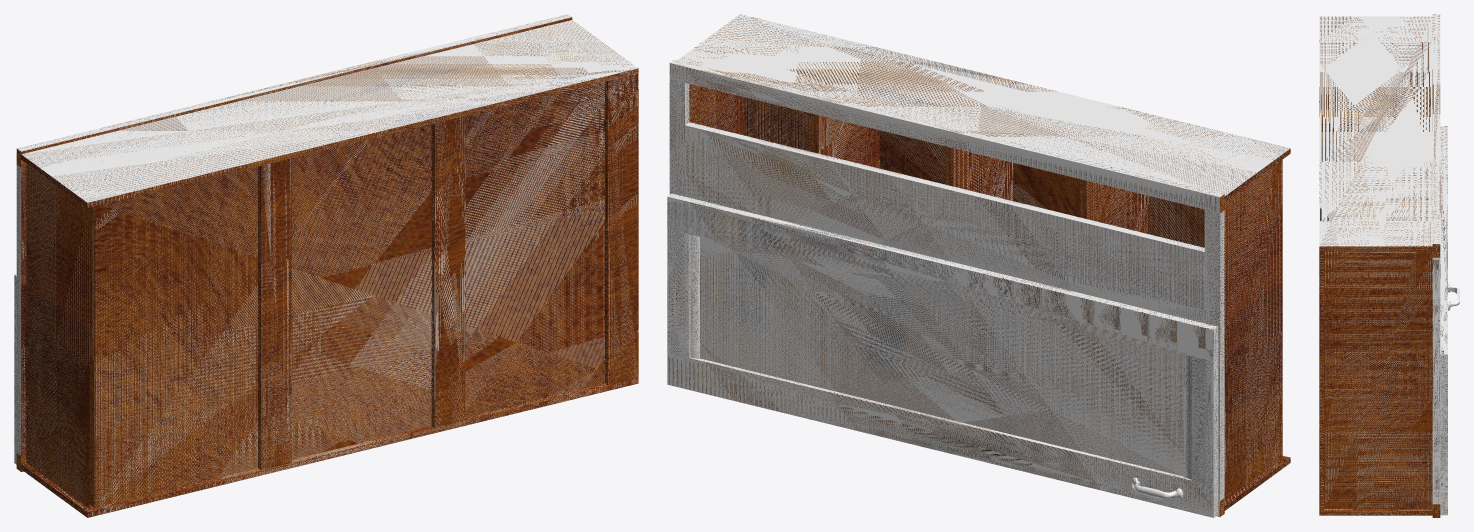
3 renders of one model, left to right at view 1: azimuth 30°, elevation 25°; view 2: azimuth 150°, elevation 25°; view 3: azimuth 270°, elevation 25°, orthographic. The views are drawn at different scales.
Visible parts, largest first — view 1: mesh6_mesh6-geometry, mesh8_mesh8-geometry, mesh3_mesh3-geometry, mesh1_mesh1-geometry, mesh7_mesh7-geometry, mesh9_mesh9-geometry, mesh4_mesh4-geometry, mesh2_mesh2-geometry; view 2: mesh17_mesh17-geometry, mesh11_mesh11-geometry, mesh8_mesh8-geometry, mesh14_mesh14-geometry, mesh1_mesh1-geometry, mesh13_mesh13-geometry, mesh9_mesh9-geometry, mesh5_mesh5-geometry, mesh12_mesh12-geometry, mesh4_mesh4-geometry, mesh16_mesh16-geometry, mesh15_mesh15-geometry (+1 smaller); view 3: mesh2_mesh2-geometry, mesh8_mesh8-geometry, mesh4_mesh4-geometry, mesh9_mesh9-geometry, mesh14_mesh14-geometry, mesh3_mesh3-geometry, mesh15_mesh15-geometry, mesh7_mesh7-geometry, mesh13_mesh13-geometry.
Part boxes in pixels (box(x1,y1,x2,y2)): mesh6_mesh6-geometry: box(94, 82, 604, 507); mesh8_mesh8-geometry: box(21, 20, 638, 208); mesh3_mesh3-geometry: box(258, 74, 638, 470); mesh1_mesh1-geometry: box(26, 163, 89, 508); mesh7_mesh7-geometry: box(21, 378, 638, 517); mesh9_mesh9-geometry: box(16, 14, 572, 167); mesh4_mesh4-geometry: box(16, 165, 26, 455); mesh2_mesh2-geometry: box(89, 206, 94, 507); mesh17_mesh17-geometry: box(700, 236, 1184, 476); mesh11_mesh11-geometry: box(685, 122, 1204, 323); mesh8_mesh8-geometry: box(677, 14, 1290, 201); mesh14_mesh14-geometry: box(667, 193, 1218, 361); mesh1_mesh1-geometry: box(689, 84, 1282, 500); mesh13_mesh13-geometry: box(667, 352, 1218, 517); mesh9_mesh9-geometry: box(669, 60, 1224, 212); mesh5_mesh5-geometry: box(745, 97, 1204, 247); mesh12_mesh12-geometry: box(811, 113, 1148, 233); mesh4_mesh4-geometry: box(669, 79, 1224, 500); mesh16_mesh16-geometry: box(1184, 355, 1218, 485); mesh15_mesh15-geometry: box(667, 228, 699, 358); mesh2_mesh2-geometry: box(1324, 251, 1432, 508); mesh8_mesh8-geometry: box(1319, 16, 1432, 250); mesh4_mesh4-geometry: box(1432, 257, 1440, 504); mesh9_mesh9-geometry: box(1432, 14, 1440, 257); mesh14_mesh14-geometry: box(1440, 126, 1447, 381); mesh3_mesh3-geometry: box(1319, 251, 1324, 510); mesh15_mesh15-geometry: box(1440, 382, 1447, 487); mesh7_mesh7-geometry: box(1319, 509, 1432, 515); mesh13_mesh13-geometry: box(1440, 488, 1447, 515).
Size of the model in its own units: 0.8528 by 0.4738 by 0.2196.
